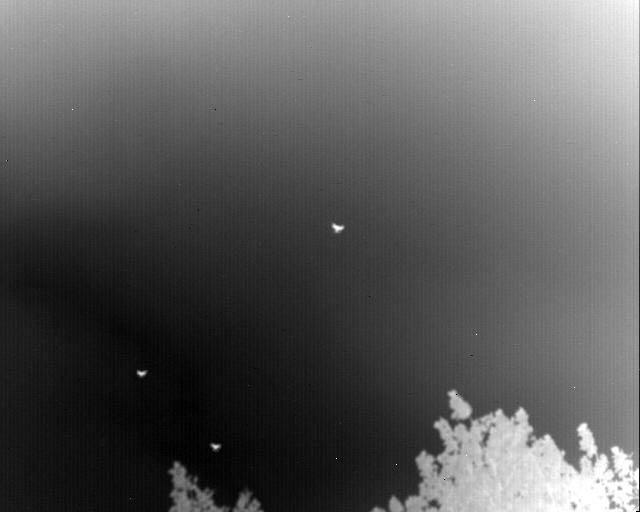plane: (331, 223, 345, 234), (136, 368, 148, 378), (211, 443, 221, 450)
